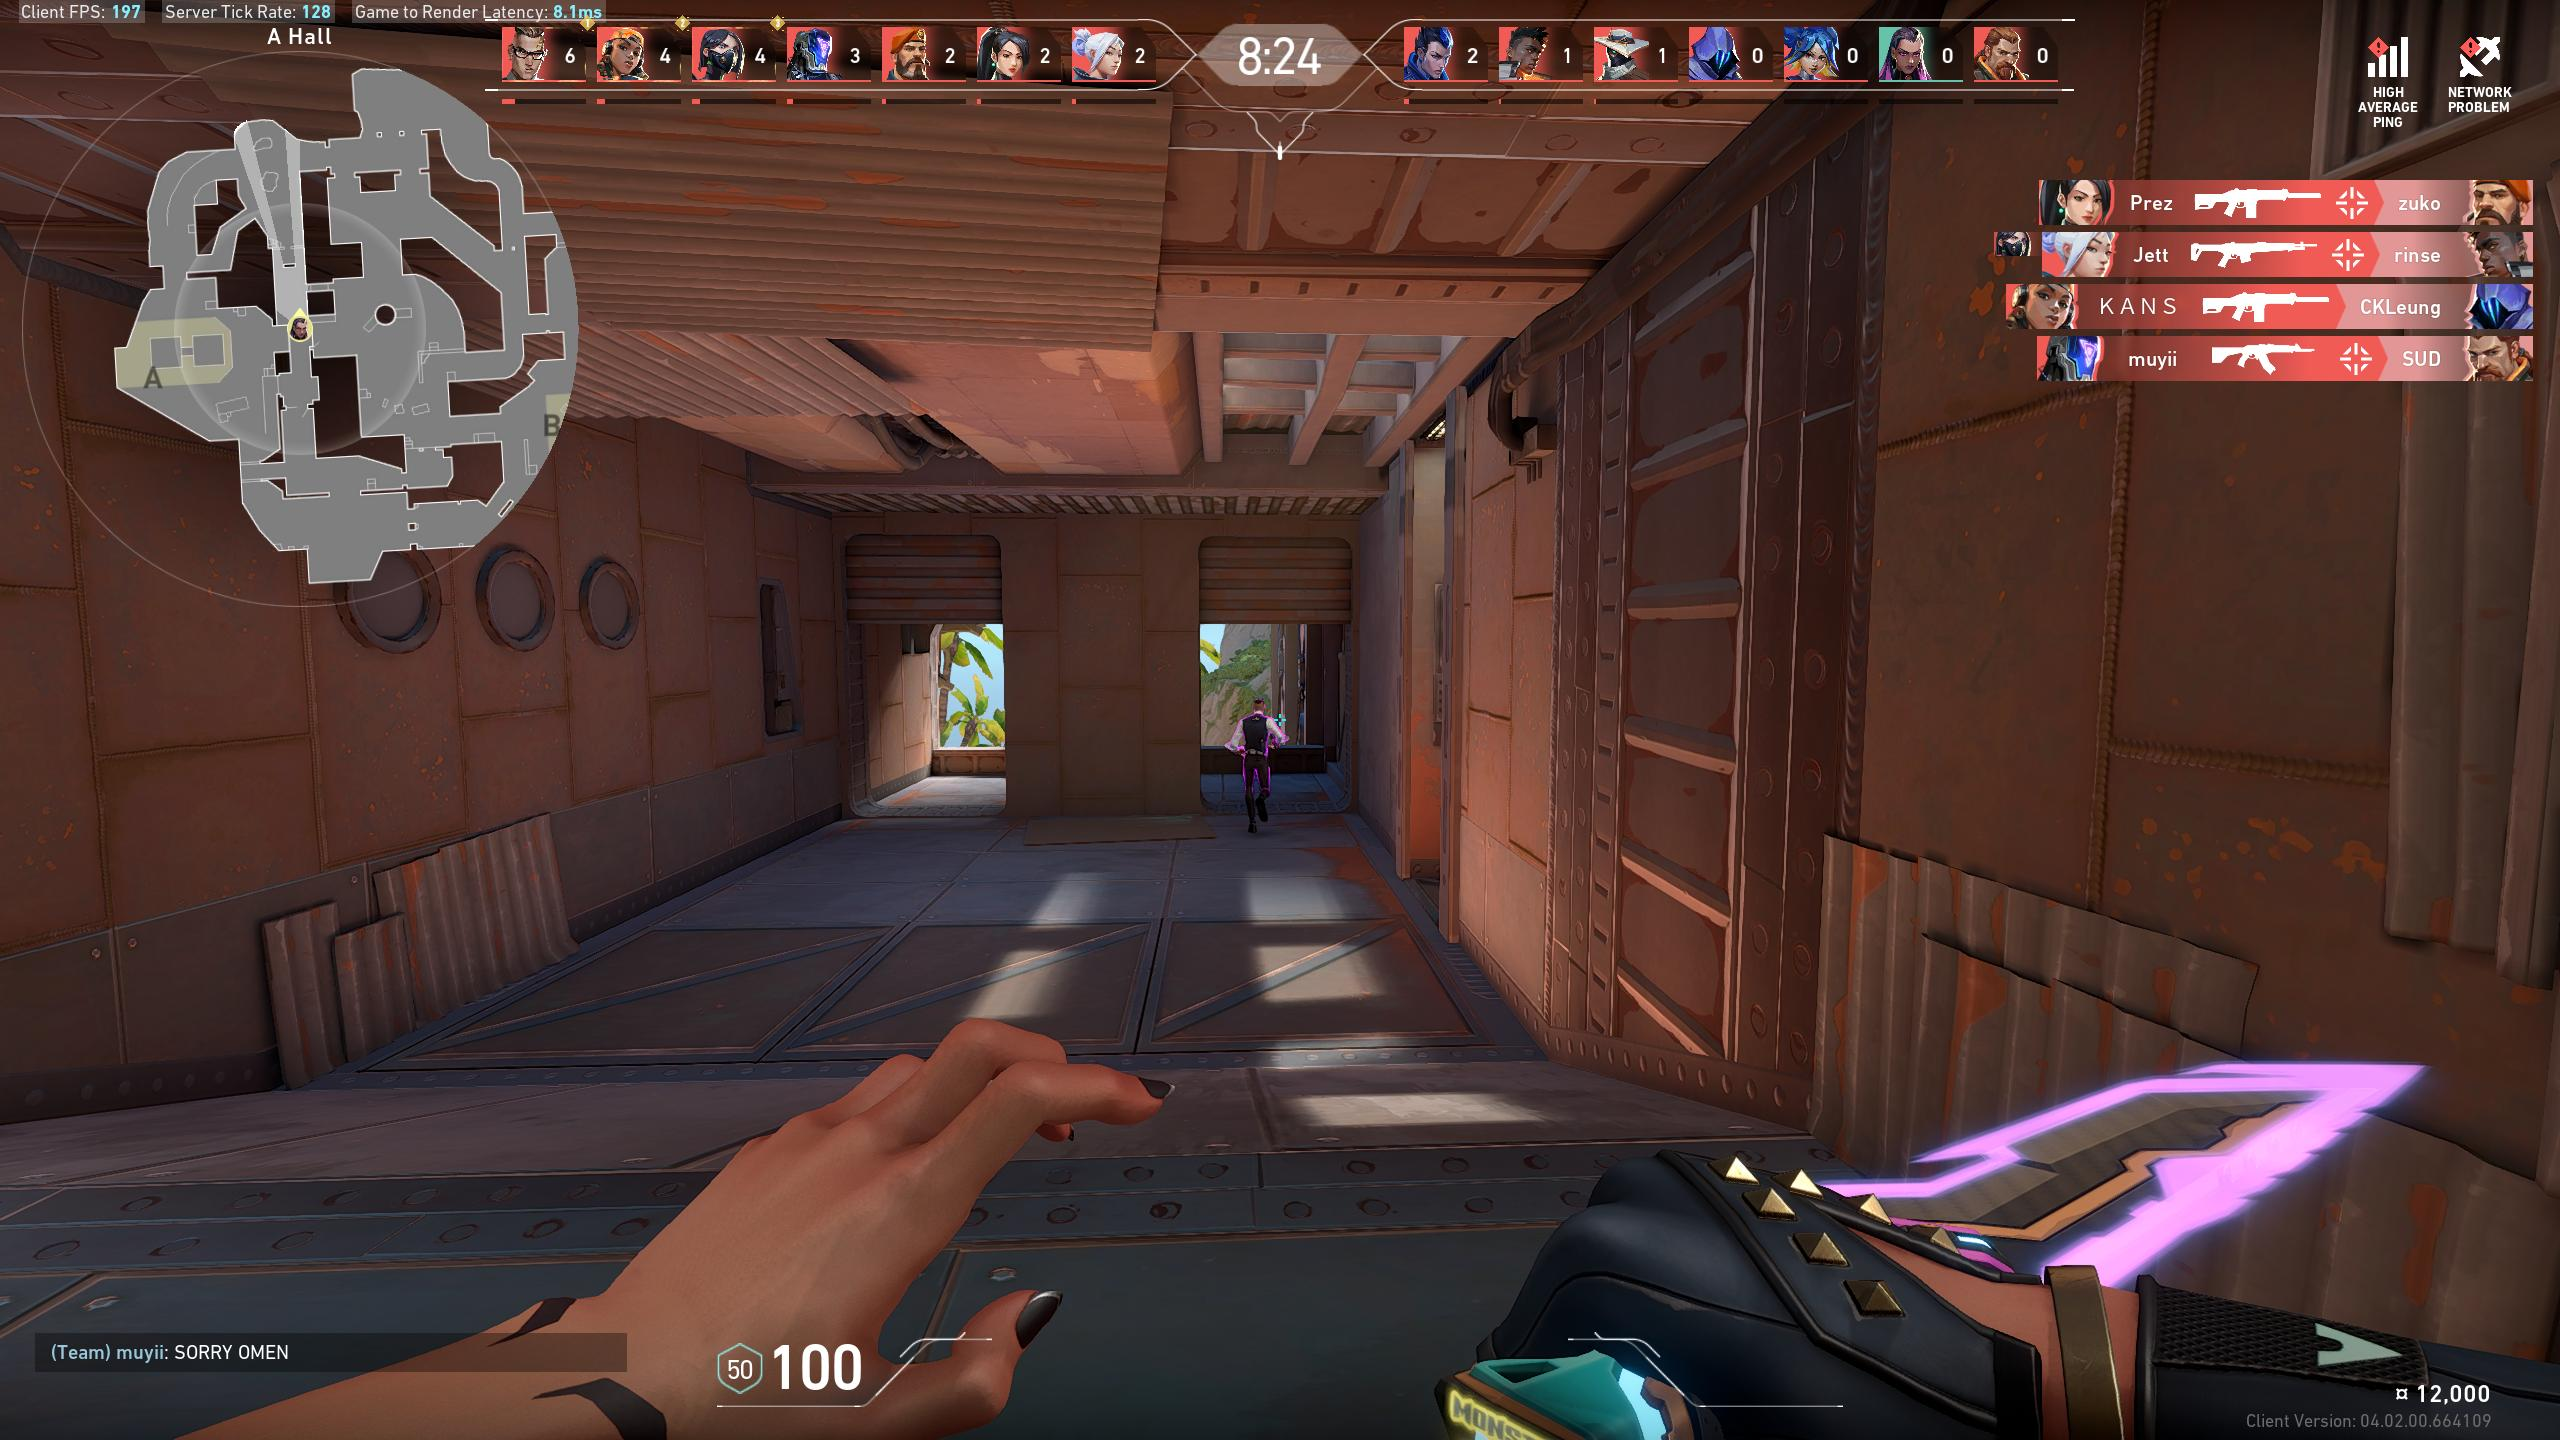enemyBody: (1245, 719, 1264, 749)
enemyHead: (1255, 702, 1262, 714)
